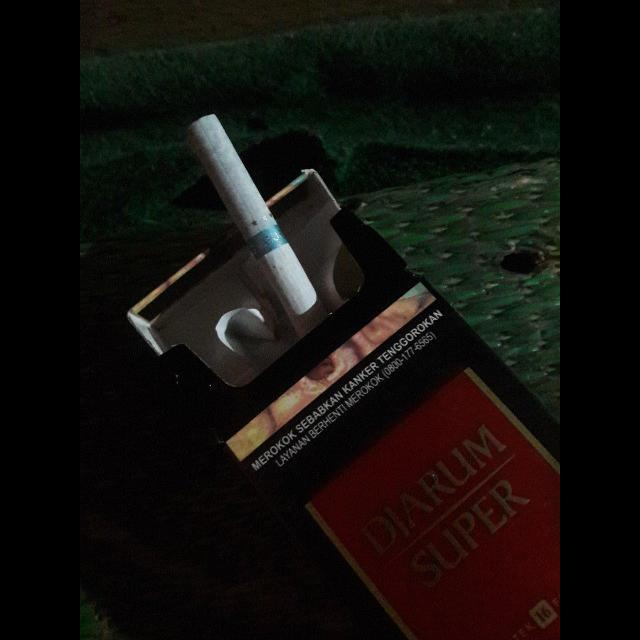rokok: (180, 106, 328, 330)
